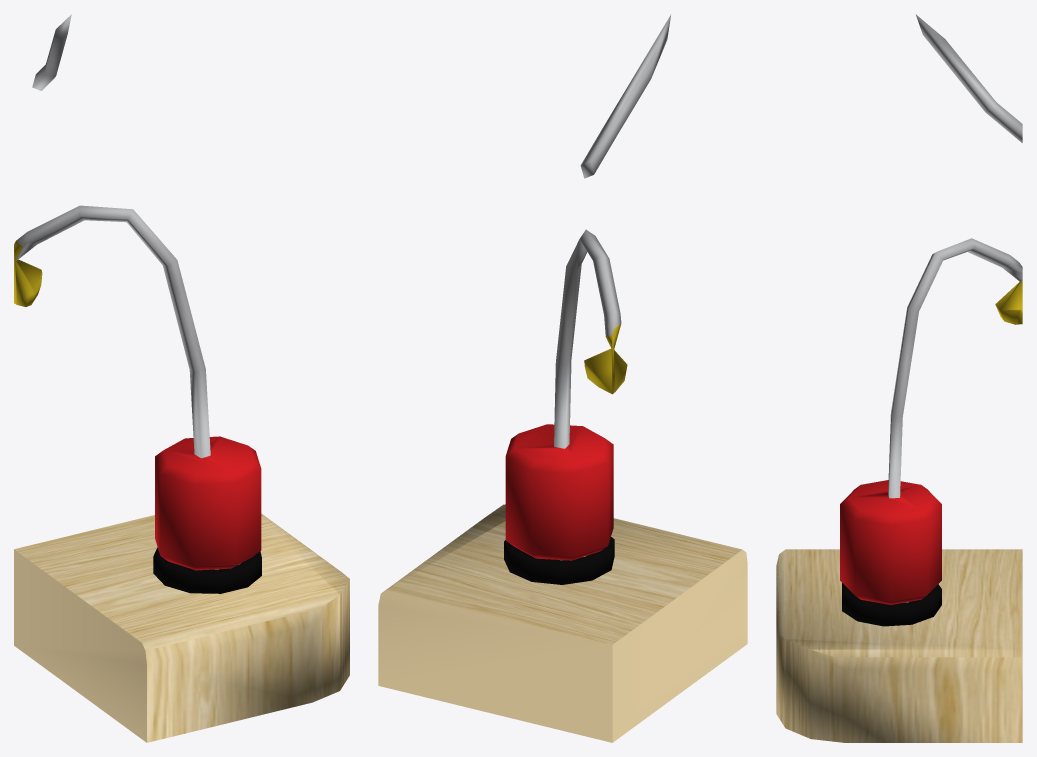
File: 8_Motorikschleife_sm.fbx
3 renders of one model, left to right at view 1: azimuth 30°, elevation 25°; view 2: azimuth 150°, elevation 25°; view 3: azimuth 270°, elevation 25°, orthographic. The views are drawn at different scales.
Parts seen in each view (by area): view 1: Cube.008; view 2: Cube.008; view 3: Cube.008.
Boxes of the visible parts, bbox=[...] form: Cube.008: bbox=[14, 14, 349, 742]; Cube.008: bbox=[378, 14, 747, 742]; Cube.008: bbox=[776, 14, 1022, 742].
Bounding box in the file's own units: 500 × 1399 × 500.
